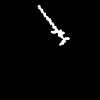double_crochet: (38, 5, 69, 44)
